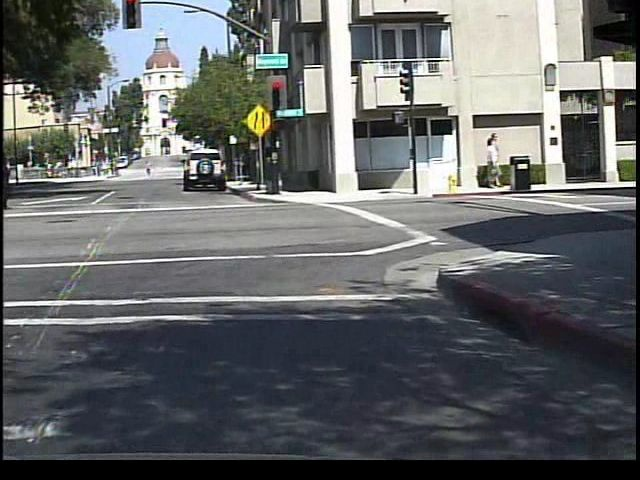person: (3, 170, 30, 229), (4, 157, 24, 213), (145, 161, 154, 179)
